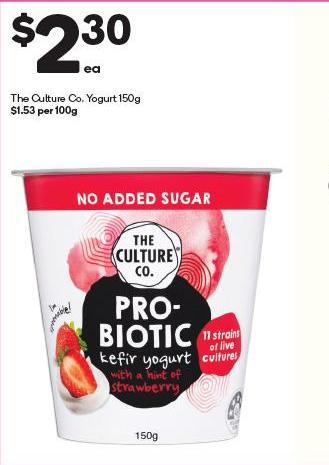description_block: (2, 88, 159, 106)
price_main: (4, 4, 154, 85)
product_image_block: (5, 149, 296, 452)
unit_price_block: (4, 104, 88, 123)
